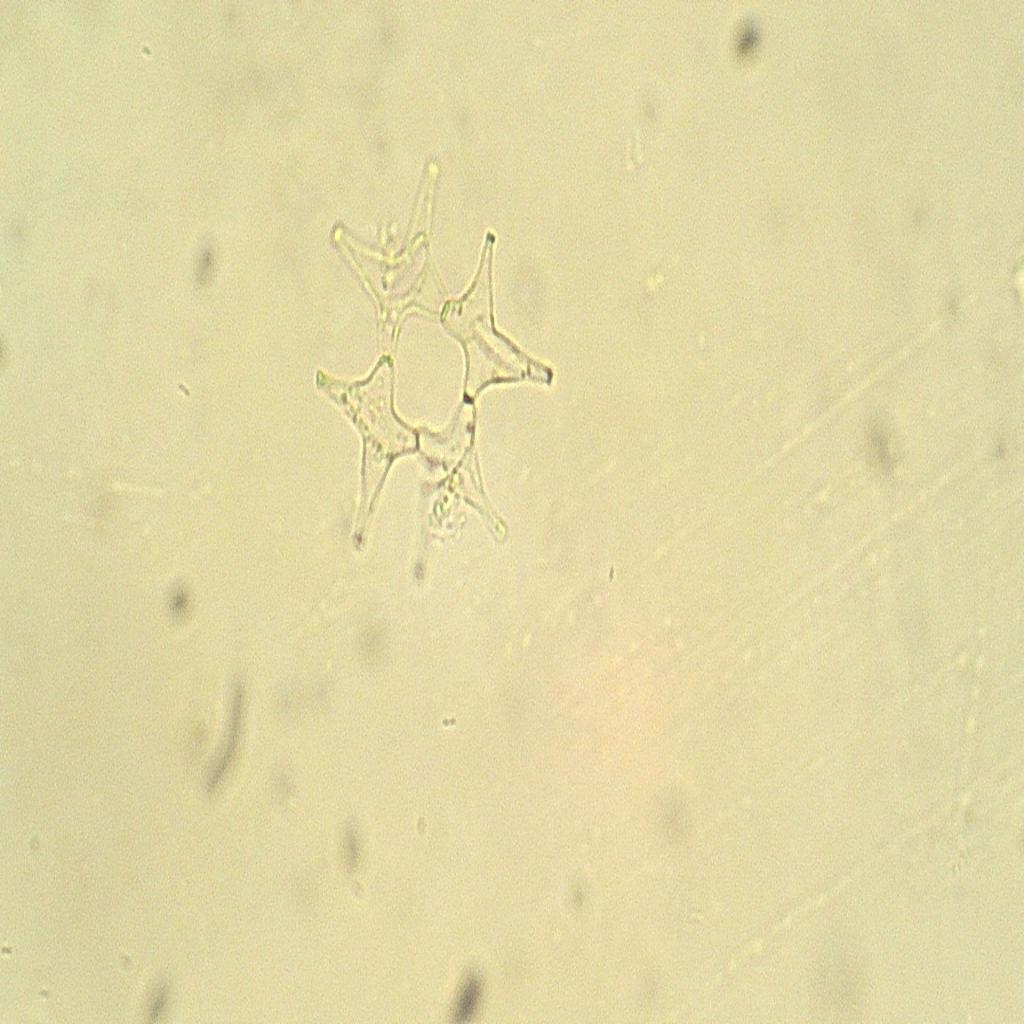Pediastrum_1F0: (278, 134, 566, 610)
